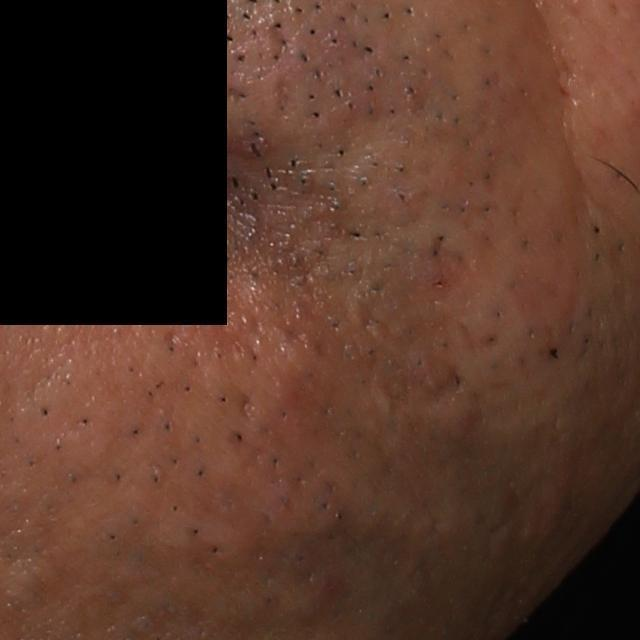hypertrophic_scar: (198, 336, 313, 407), (389, 375, 473, 454), (177, 504, 248, 558), (0, 557, 56, 601)
